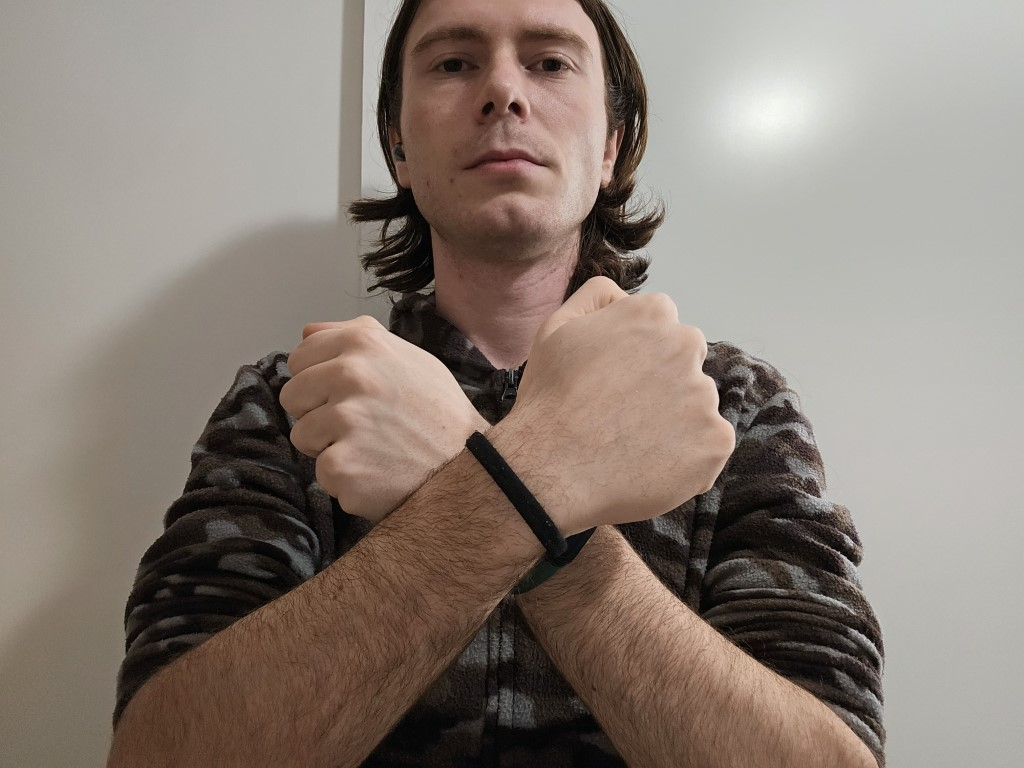del: (247, 274, 766, 641)
